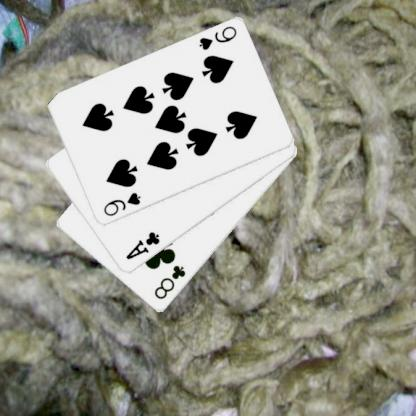8C: (151, 262, 188, 302)
9S: (196, 23, 238, 52), (101, 189, 142, 218)
AC: (123, 229, 161, 262)
